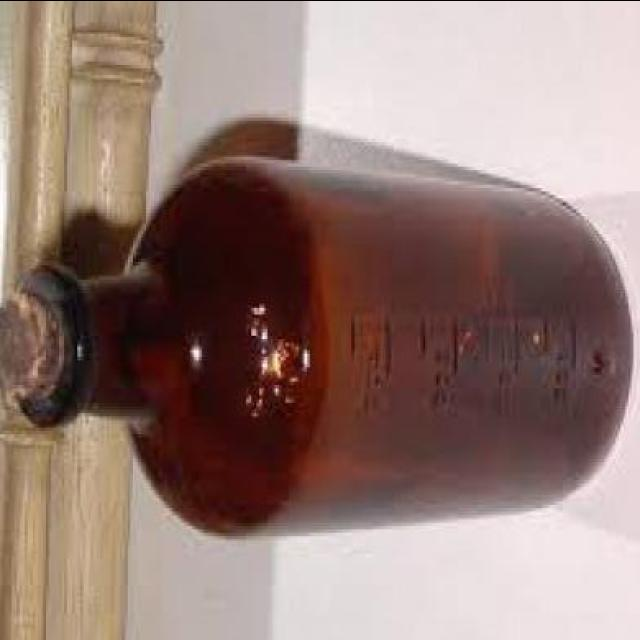kaca: (19, 150, 628, 540)
